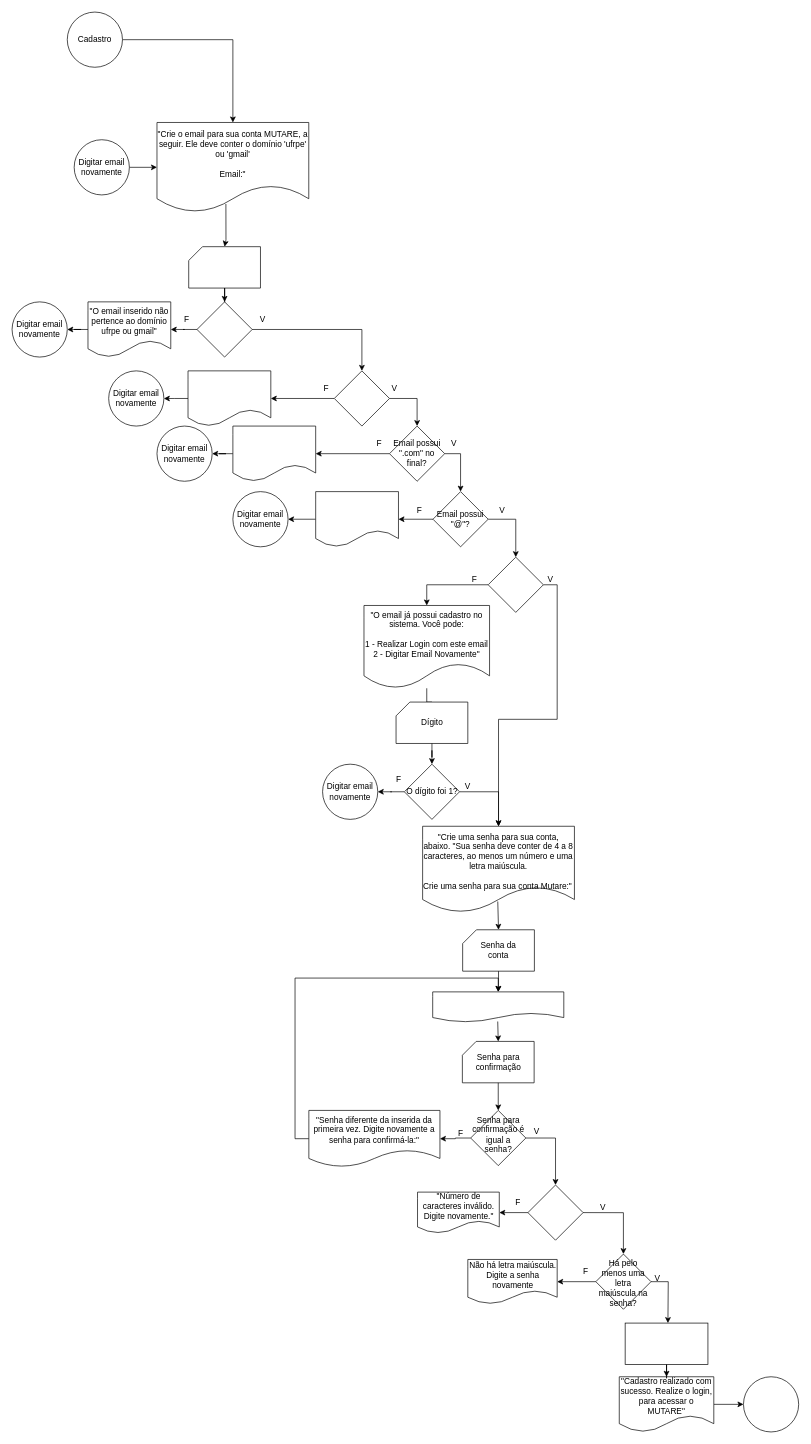
This 811x1444 diagram has some shape labels left out. Here are the shapes that lost their labels. From the top down, the centre of each, then its label:
the point at 224,267: Email
the point at 224,329: Email tem domínio "ufrpe" ou "gmail"?
the point at 229,398: "O email inserido possui espaço em branco. Digite-o novamente"
the point at 362,398: Email não possui espaços em branco?
the point at 274,453: "O email inserido não possui '.com' no final. Digite-o novamente"
the point at 356,519: "O email inserido não possui '@'. Digite-o novamente"
the point at 515,584: Email é diferente de qualquer outro salvo no banco de dados"?
the point at 498,1006: "Confirme sua senha. Digite-a novamente:"
the point at 555,1212: Há de 4 a 8 caracterers e pelo menos um número na senha?
the point at 666,1343: Salva Email e Senha no banco de dados
the point at 771,1404: Login
